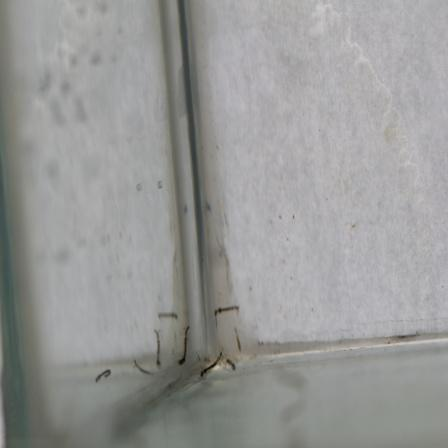Jentik-Nyamuk: (173, 320, 191, 369), (197, 351, 226, 381)
